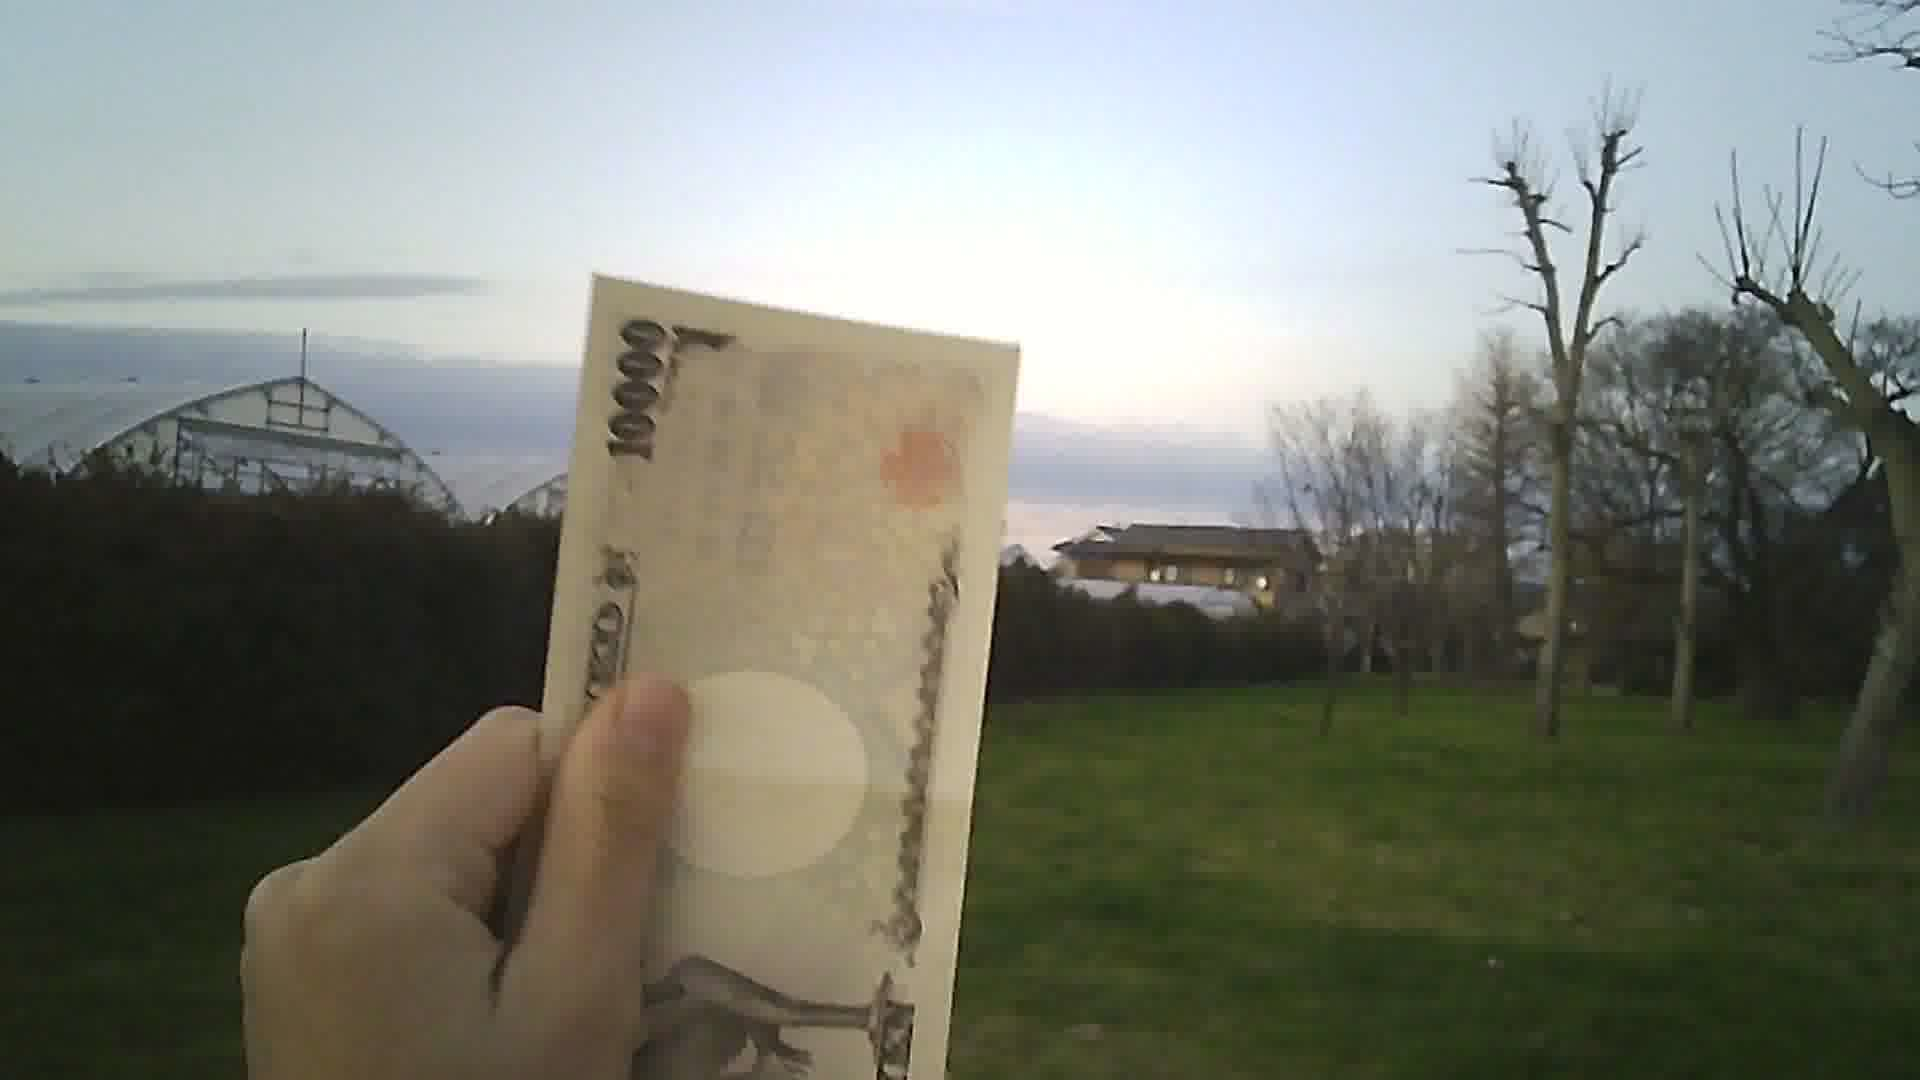10,000 Yen: (460, 253, 1018, 1072)
